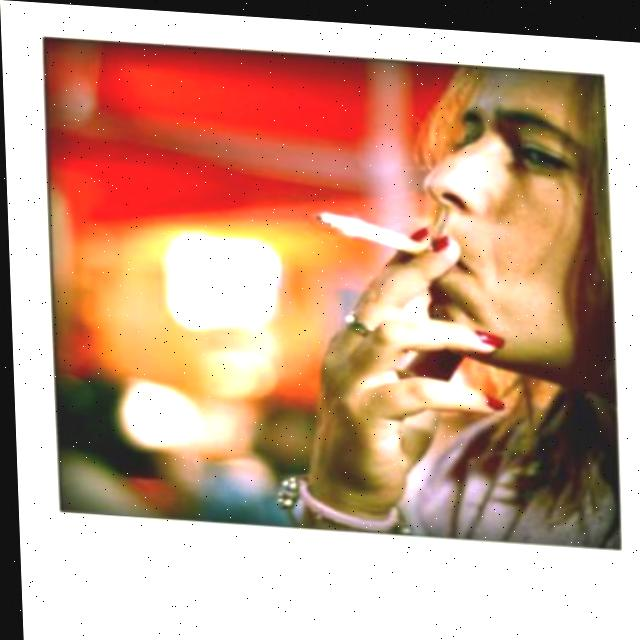cigarette: (310, 205, 426, 255)
